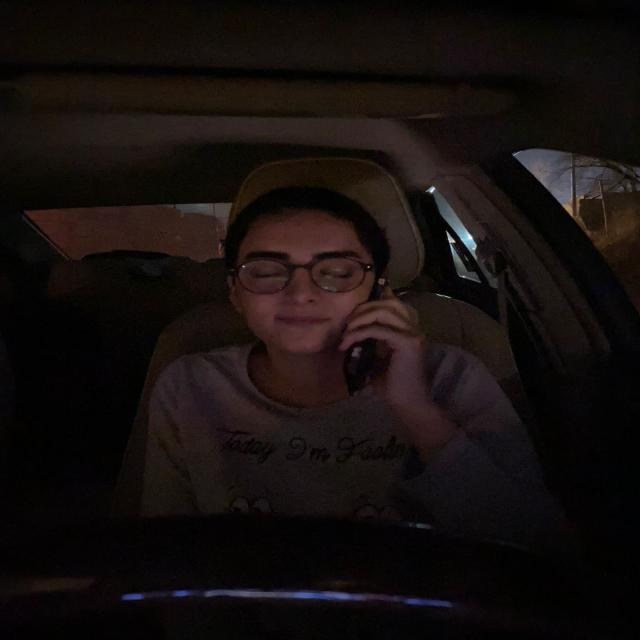drowsy: (228, 184, 390, 369)
